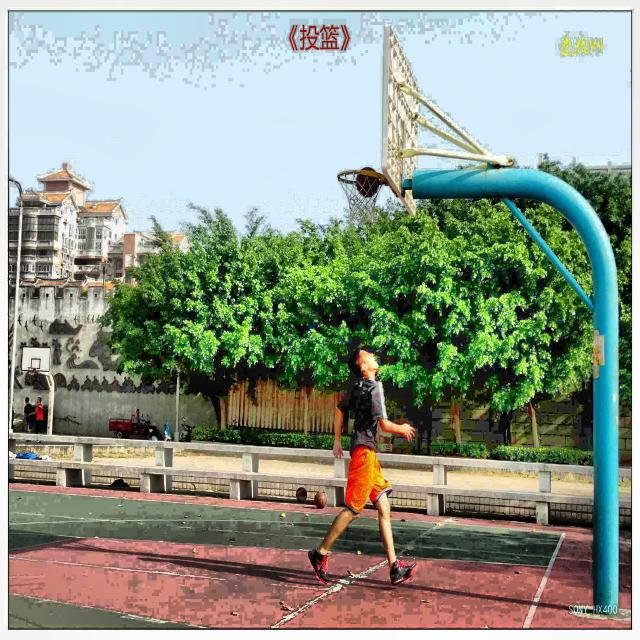rim: (339, 170, 382, 224)
